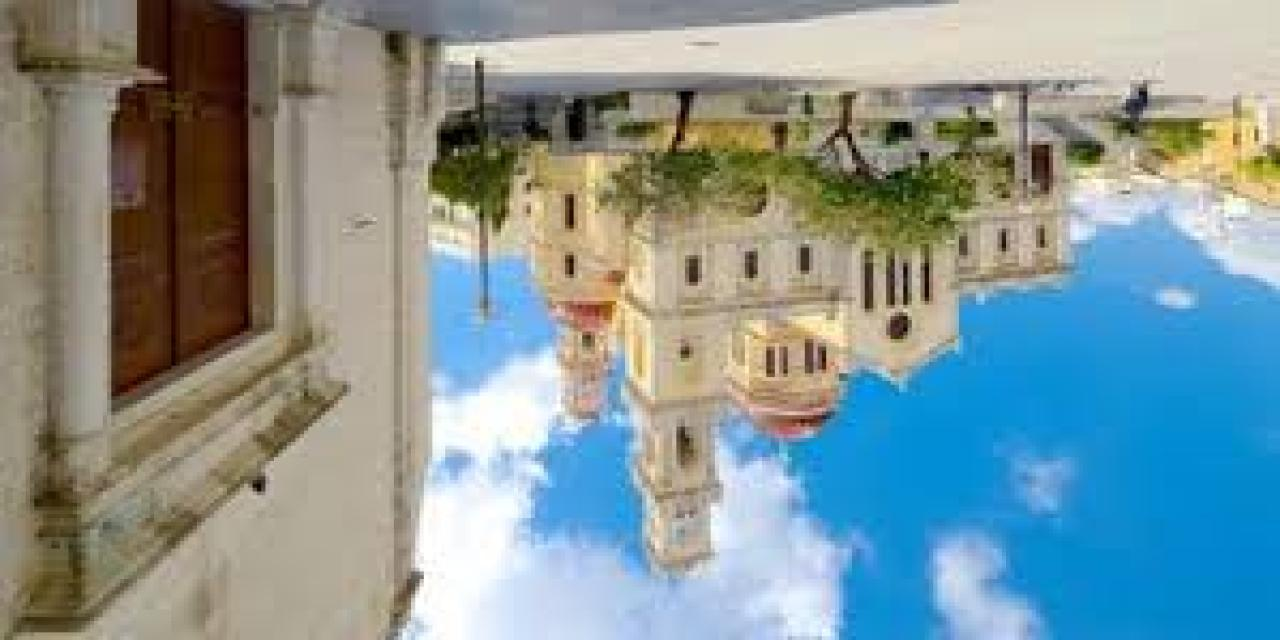Agios Minas: (525, 125, 1071, 569)
